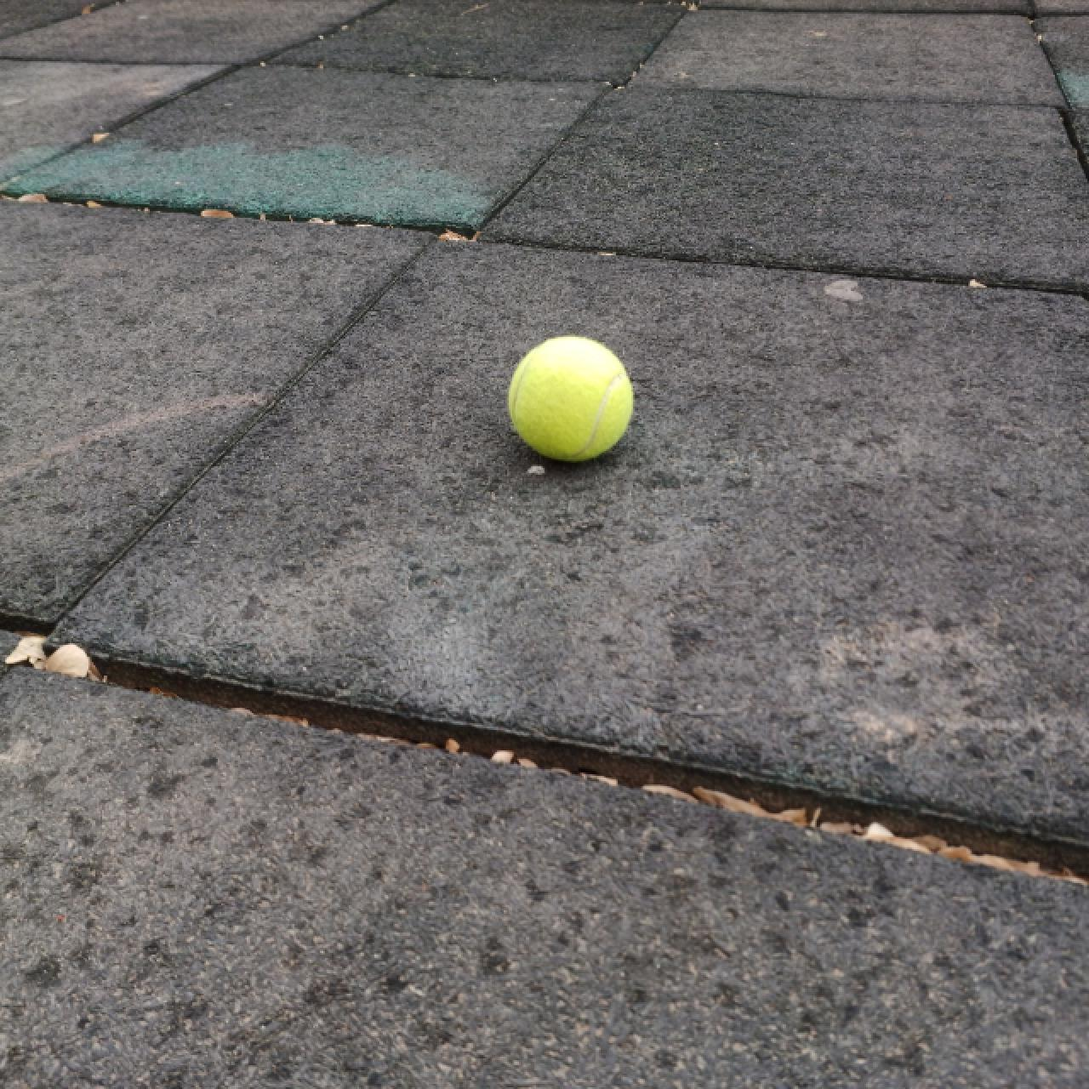tennis-ball: (504, 333, 636, 459)
